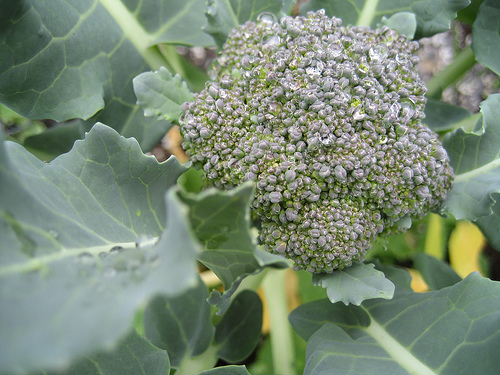broccoli: (174, 8, 461, 280)
